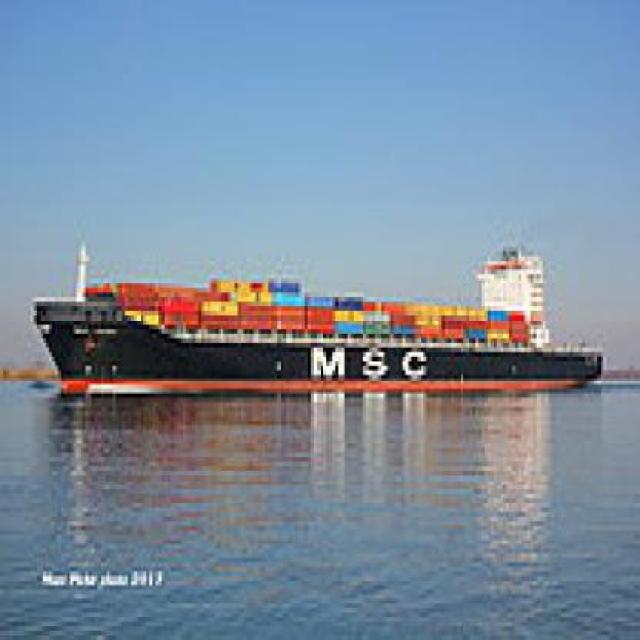container: (25, 207, 611, 421)
